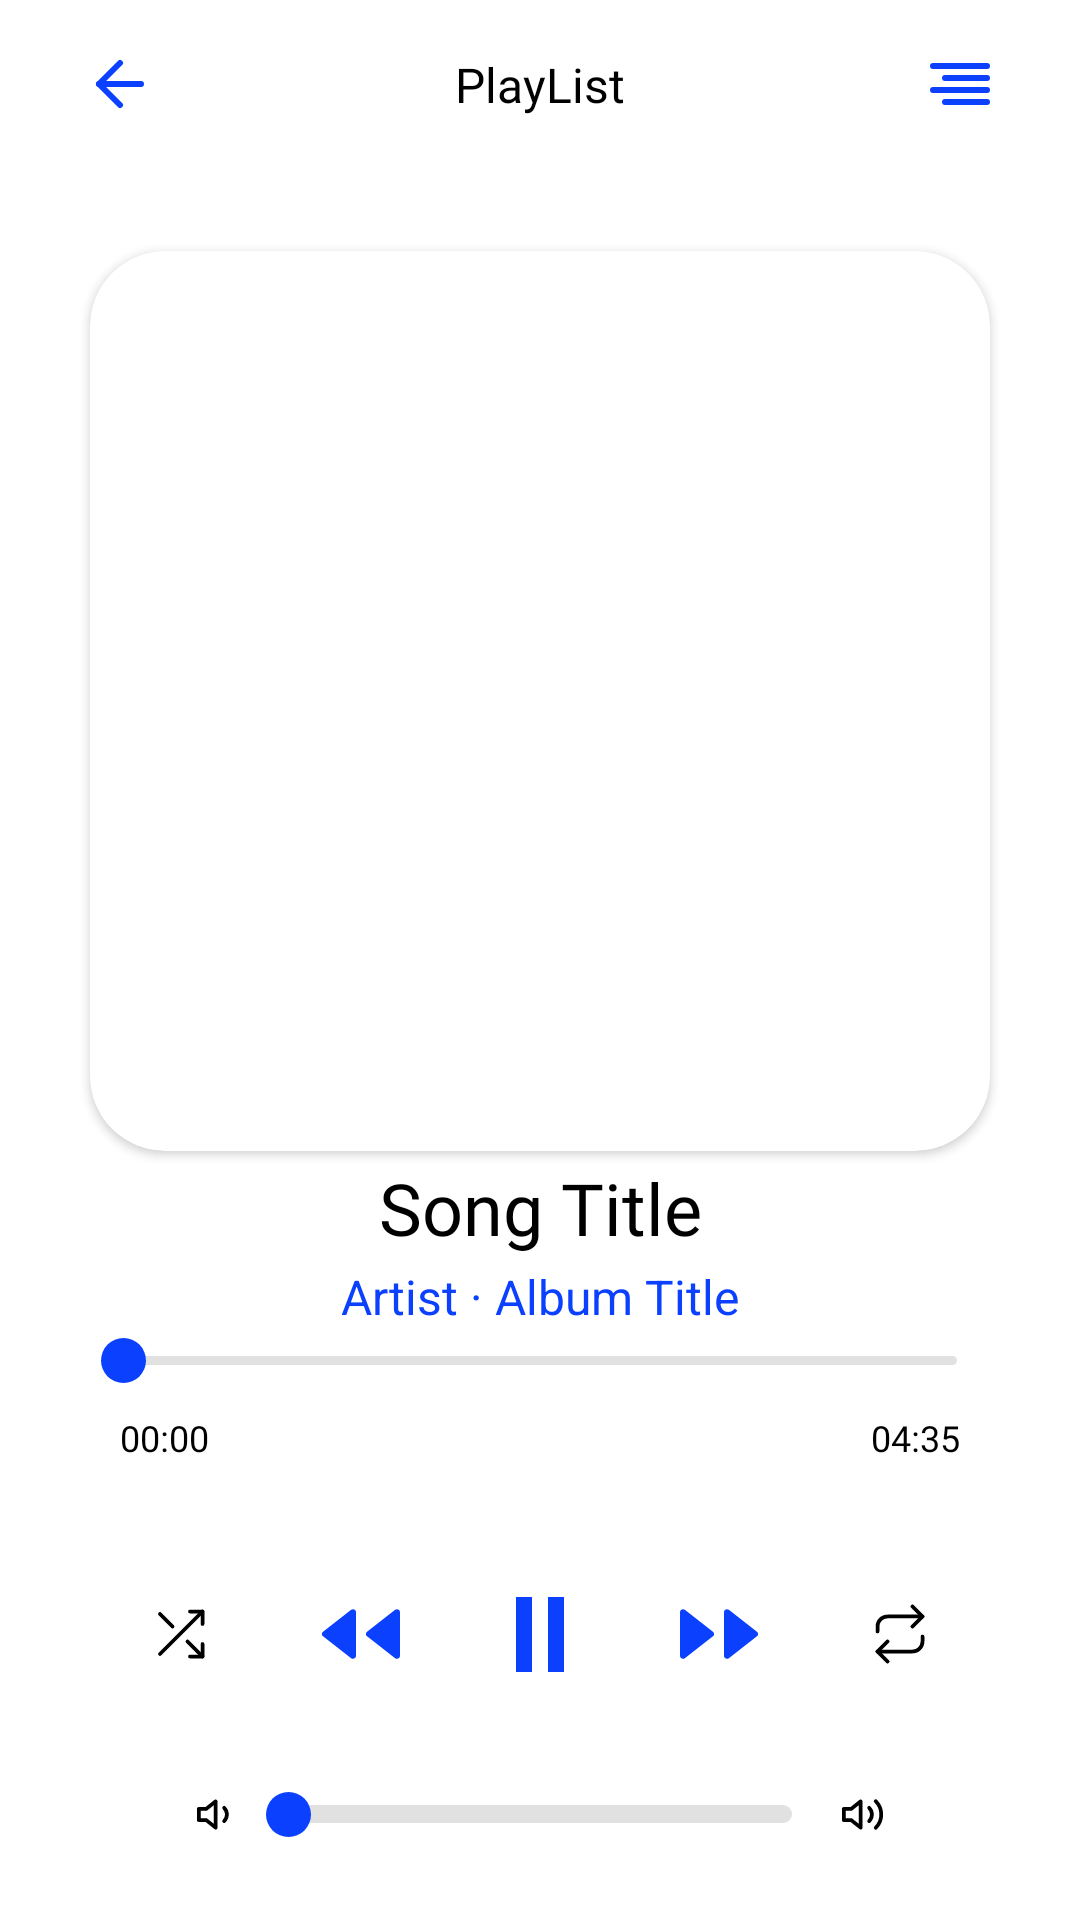

Screen size 1080x1920. Icon name, then its box in pixels as bbox=(x1, y1, x2, y2):
back: bbox=(96, 60, 144, 108)
forward: bbox=(680, 1609, 758, 1659)
high volume: bbox=(842, 1799, 883, 1830)
low volume: bbox=(197, 1799, 229, 1830)
menu: bbox=(930, 63, 990, 105)
pause: bbox=(516, 1597, 564, 1672)
previous: bbox=(322, 1609, 400, 1659)
repeat: bbox=(875, 1604, 925, 1664)
shuffle: bbox=(158, 1609, 205, 1659)
